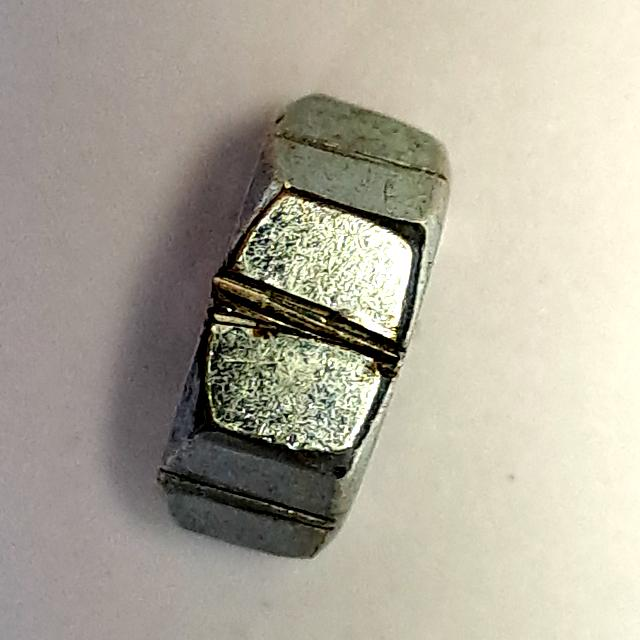Side_Scratches: (134, 85, 474, 576)
